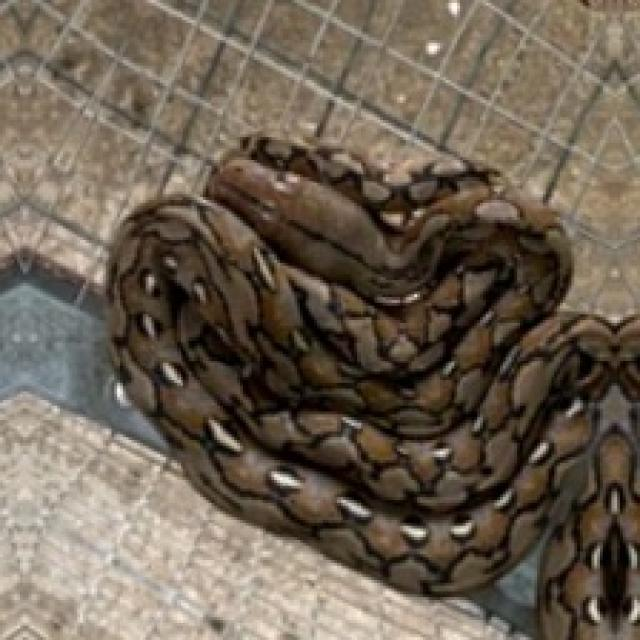reticulated python: (106, 137, 637, 637)
